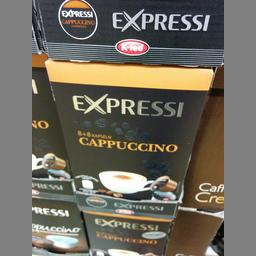coffee: (44, 58, 212, 202)
